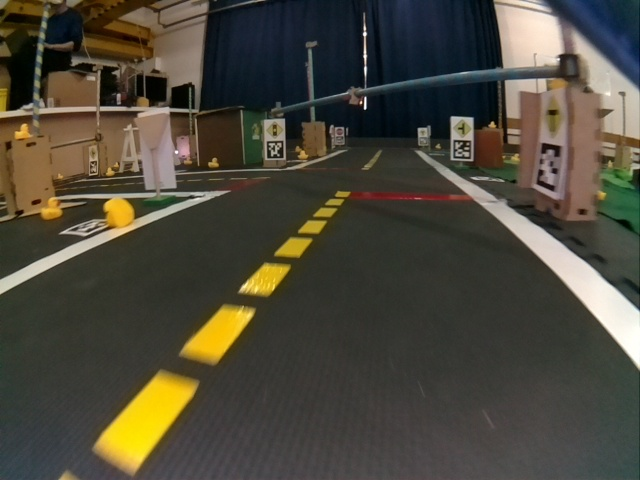Duckie: (104, 201, 134, 227), (42, 198, 62, 219), (16, 125, 31, 138)
Intersection sign: (541, 93, 564, 140), (452, 118, 473, 138)
QR code: (534, 146, 564, 197), (62, 220, 108, 235), (451, 142, 473, 160), (265, 142, 283, 158)
Signal sign: (265, 120, 285, 139)
Traffic light: (349, 89, 362, 104)
